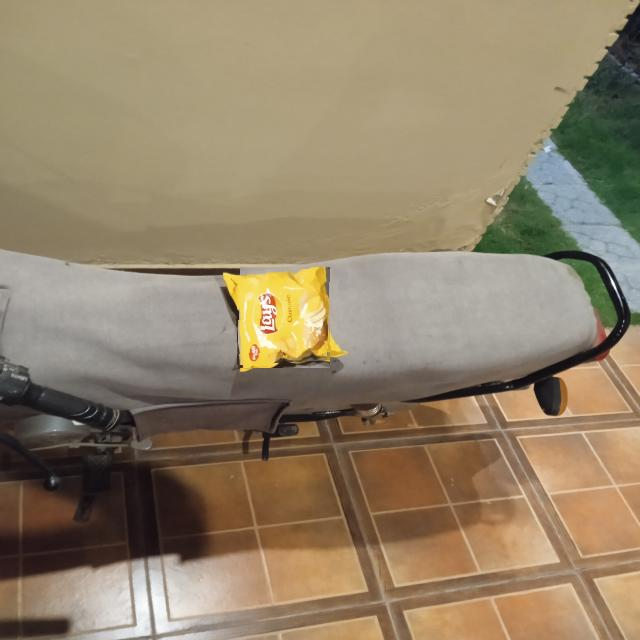Plastic: (237, 269, 333, 365)
